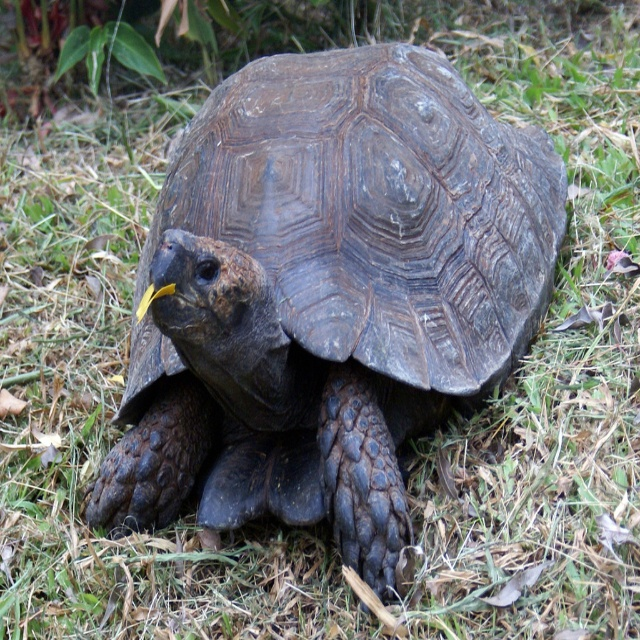Tortoise: (79, 43, 568, 626)
